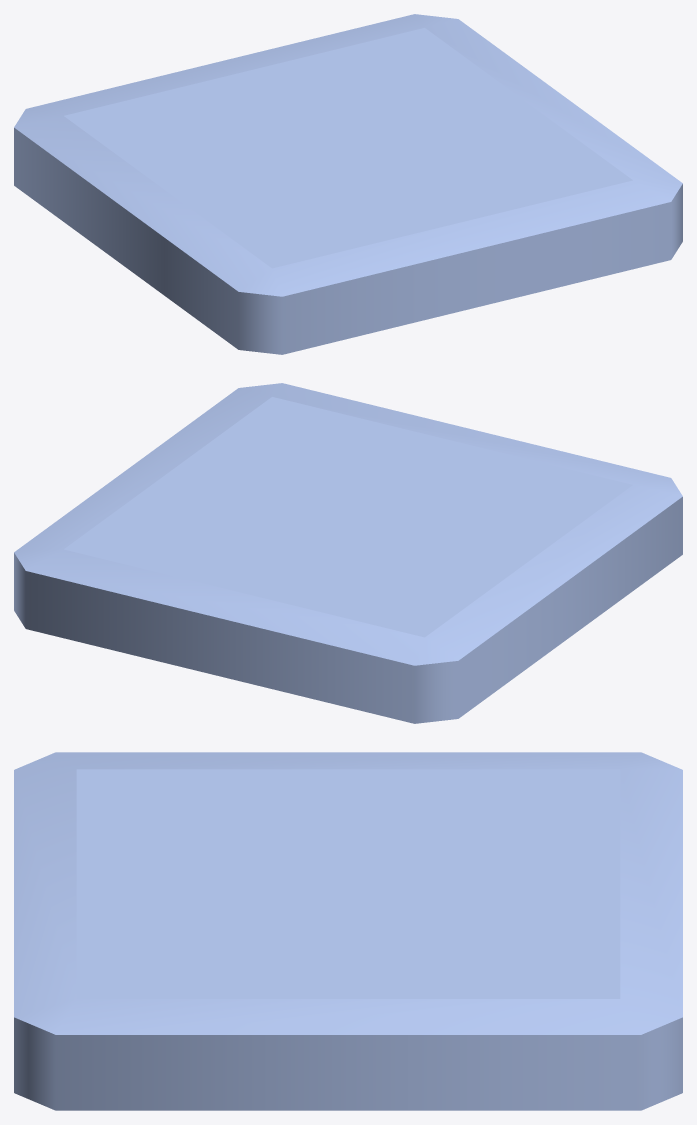
File: tile.glb
3 views of the same model, one above another, from view 1: azimuth 30°, elevation 25°; view 2: azimuth 150°, elevation 25°; view 3: azimuth 270°, elevation 25° (orthographic). The views are drawn at different scales.
Visible parts, largest first — view 1: tile_mesh; view 2: tile_mesh; view 3: tile_mesh.
Boxes of the visible parts, box(x1,y1,x2,y2) form: tile_mesh: box(14, 14, 682, 354); tile_mesh: box(14, 383, 682, 723); tile_mesh: box(14, 752, 682, 1110).
Bounding box in the file's own units: 4 × 0.5625 × 4.
